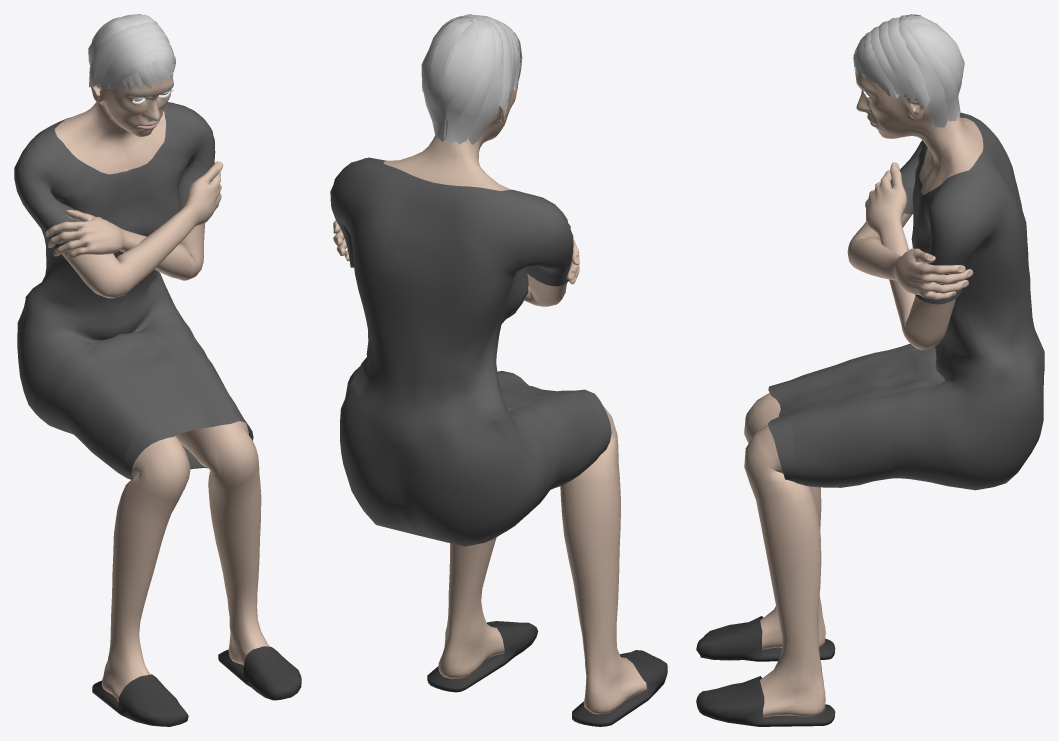
Rendered from WomanLM1.fbx.
3 renders of one model, left to right at view 1: azimuth 30°, elevation 25°; view 2: azimuth 150°, elevation 25°; view 3: azimuth 270°, elevation 25°, orthographic. The views are drawn at different scales.
Parts seen in each view (by area): view 1: WomanLM1; view 2: WomanLM1; view 3: WomanLM1.
Part boxes in pixels (x1,y1,x2,y2): WomanLM1: [14, 14, 301, 726]; WomanLM1: [330, 14, 667, 726]; WomanLM1: [696, 14, 1044, 726].
Bounding box in the file's own units: 0.4265 × 1.27 × 0.6038.
